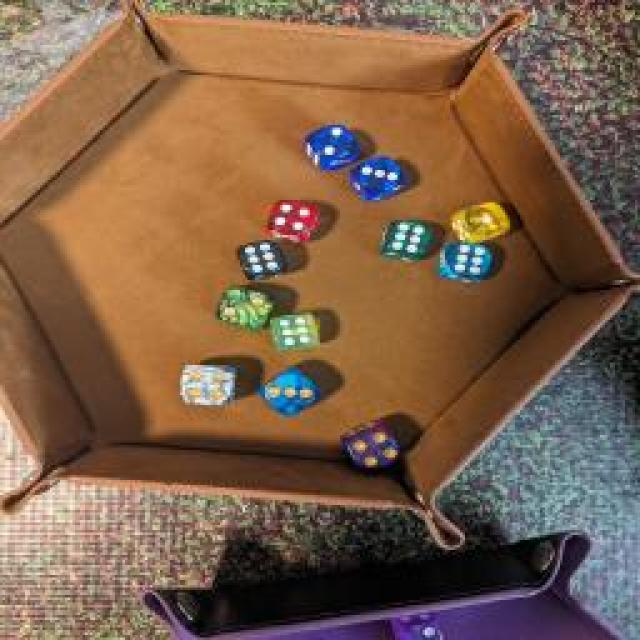dice_1: (451, 199, 511, 241)
dice_2: (294, 120, 361, 172), (210, 282, 275, 330)
dice_3: (341, 155, 411, 200), (258, 366, 322, 414)
dice_4: (336, 416, 406, 474), (168, 359, 238, 409), (264, 194, 318, 244)
dice_6: (432, 235, 490, 287), (232, 236, 290, 282), (267, 306, 325, 352), (381, 218, 434, 262)
